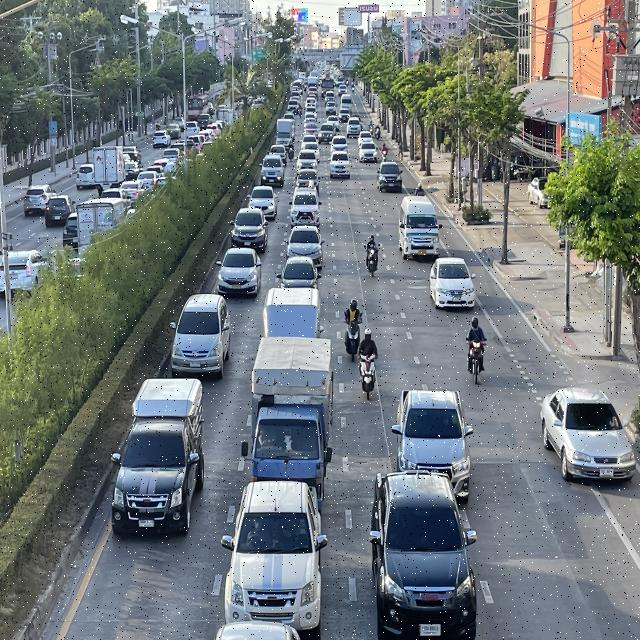bike: (464, 316, 486, 385), (359, 328, 379, 400), (343, 296, 363, 364), (361, 231, 380, 280)
car: (366, 469, 479, 640), (222, 476, 328, 640), (539, 384, 637, 490), (393, 386, 473, 504), (168, 291, 234, 378), (397, 194, 442, 262), (428, 256, 479, 315), (216, 247, 262, 298), (275, 254, 322, 292)
truck: (111, 376, 207, 542), (243, 335, 334, 509), (261, 288, 322, 338)
